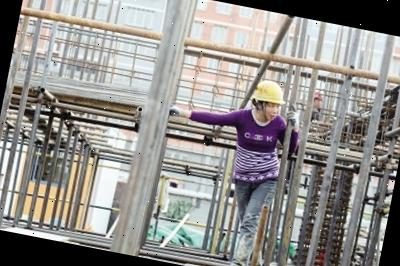helmet: (248, 76, 288, 109)
no_wear: (225, 108, 288, 182)
